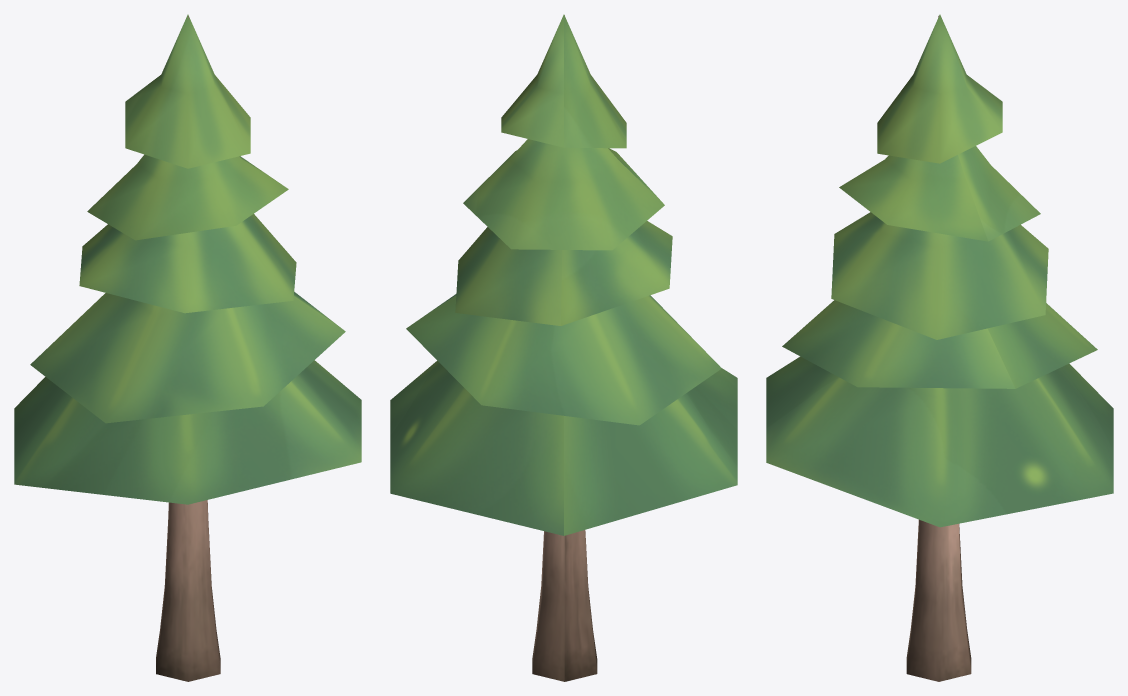
File: Forest.fbx
The picture shows the model from 3 angles, left to right: view 1: azimuth 30°, elevation 25°; view 2: azimuth 150°, elevation 25°; view 3: azimuth 270°, elevation 25°; orthographic projection.
Visible parts, largest first — view 1: polySurface45; view 2: polySurface45; view 3: polySurface45.
Boxes of the visible parts, box(x1,y1,x2,y2) form: polySurface45: box(14, 14, 361, 681); polySurface45: box(390, 14, 737, 681); polySurface45: box(766, 14, 1113, 681).
Size of the model in its own units: 23.61 by 42.34 by 20.44.
